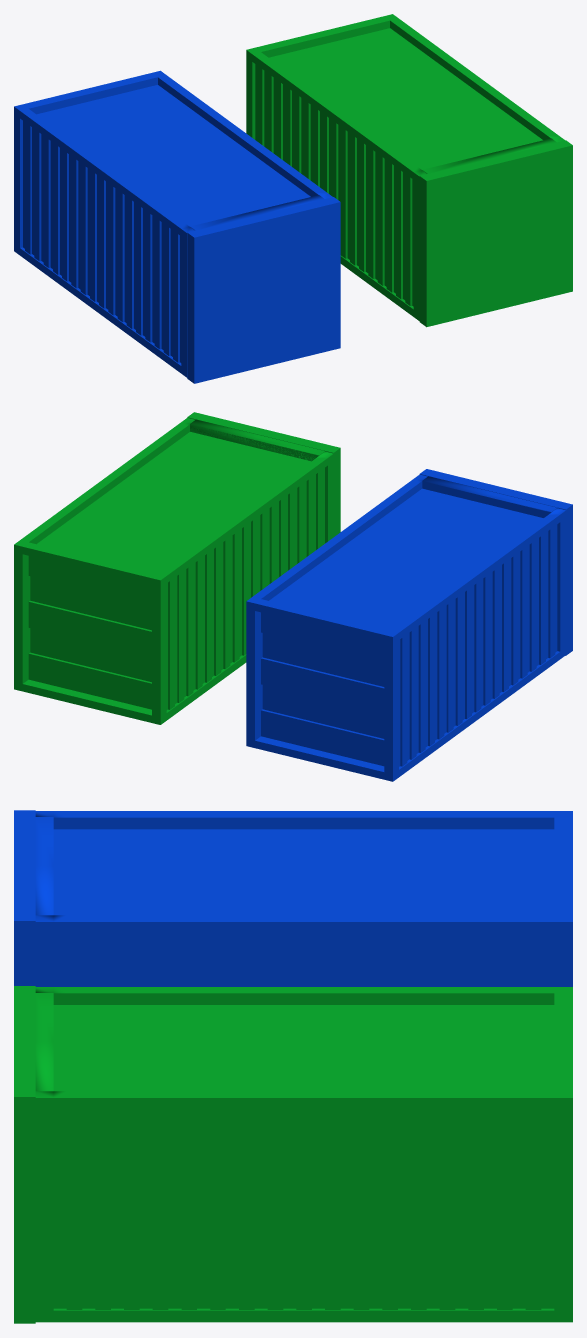
The model's file is ContainersBG.fbx.
The picture shows the model from 3 angles, top to bottom: view 1: azimuth 30°, elevation 25°; view 2: azimuth 150°, elevation 25°; view 3: azimuth 270°, elevation 25°; orthographic projection. The views are drawn at different scales.
Parts seen in each view (by area): view 1: Bluecontainer.001, Bluecontainer.002, Blue.001, Blue; view 2: Bluecontainer.001, Bluecontainer.002, Blue, Blue.001; view 3: Bluecontainer.002, Bluecontainer.001, Blue.001, Blue.
Part boxes in pixels (left/top/right/bottom): Bluecontainer.001: left=14, top=70, right=332, bottom=377; Bluecontainer.002: left=246, top=14, right=564, bottom=320; Blue.001: left=419, top=140, right=572, bottom=327; Blue: left=187, top=197, right=340, bottom=383; Bluecontainer.001: left=246, top=474, right=566, bottom=781; Bluecontainer.002: left=14, top=418, right=333, bottom=724; Blue: left=419, top=469, right=572, bottom=655; Blue.001: left=187, top=412, right=340, bottom=536; Bluecontainer.002: left=35, top=987, right=572, bottom=1322; Bluecontainer.001: left=35, top=811, right=572, bottom=986; Blue.001: left=14, top=986, right=35, bottom=1323; Blue: left=14, top=810, right=35, bottom=985.
Bounding box in the file's own units: 6.41 × 2.37 × 5.28.
